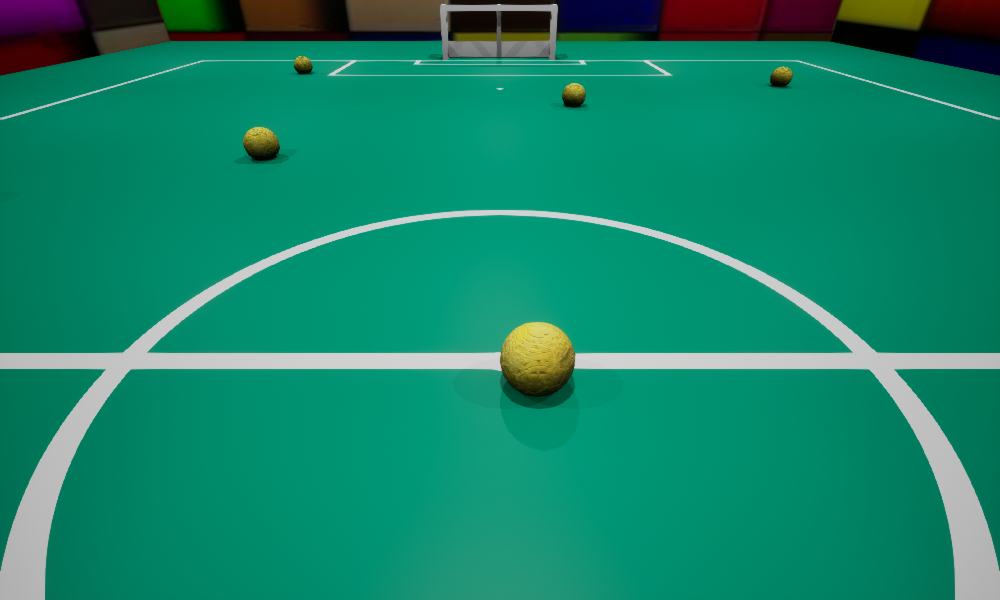b: (500, 322, 574, 395), (243, 127, 279, 159), (562, 83, 585, 106), (770, 66, 792, 86), (294, 56, 312, 73)
g: (440, 4, 557, 59)
